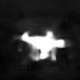plane: (14, 29, 70, 62)
